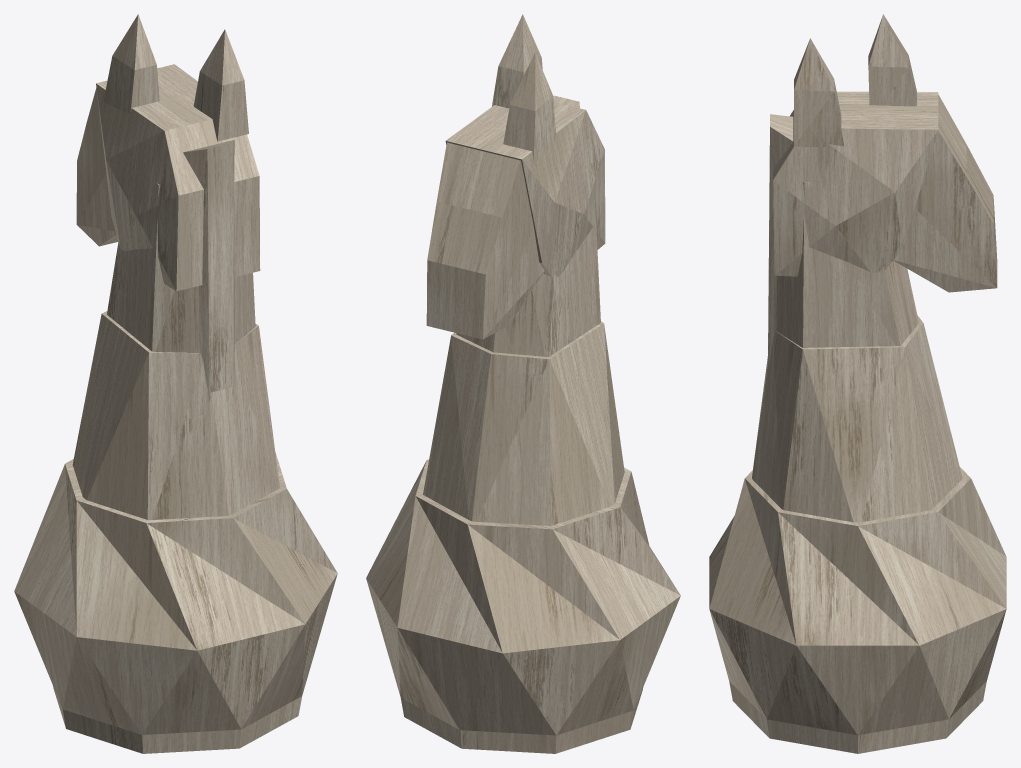
Rendered from knight-white-hd.glb.
3 renders of one model, left to right at view 1: azimuth 30°, elevation 25°; view 2: azimuth 150°, elevation 25°; view 3: azimuth 270°, elevation 25°, orthographic. The views are drawn at different scales.
Parts seen in each view (by area): view 1: Lithoxyl_Knight_Ivory; view 2: Lithoxyl_Knight_Ivory; view 3: Lithoxyl_Knight_Ivory.
Part boxes in pixels (box(x1,y1,x2,y2)): Lithoxyl_Knight_Ivory: box(14, 14, 337, 753); Lithoxyl_Knight_Ivory: box(366, 14, 680, 753); Lithoxyl_Knight_Ivory: box(709, 14, 1006, 753).
Size of the model in its own units: 0.443 by 1.11 by 0.443.
Materials: 1 (1 with a texture image).
